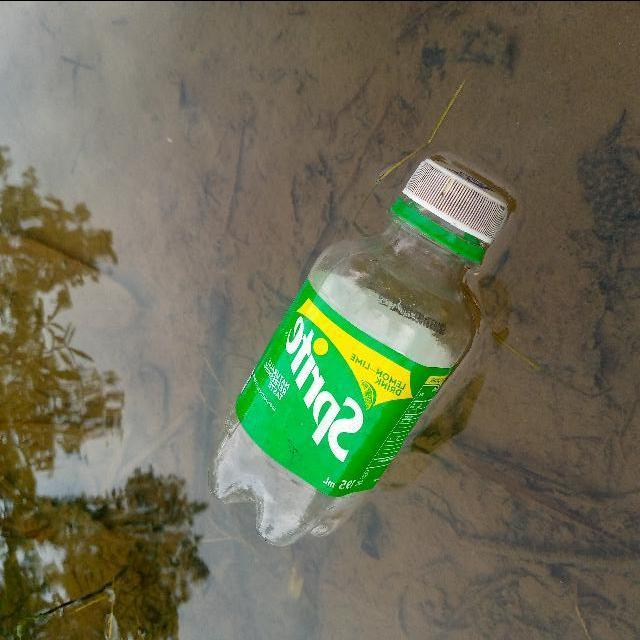Bottle: (198, 149, 520, 557)
